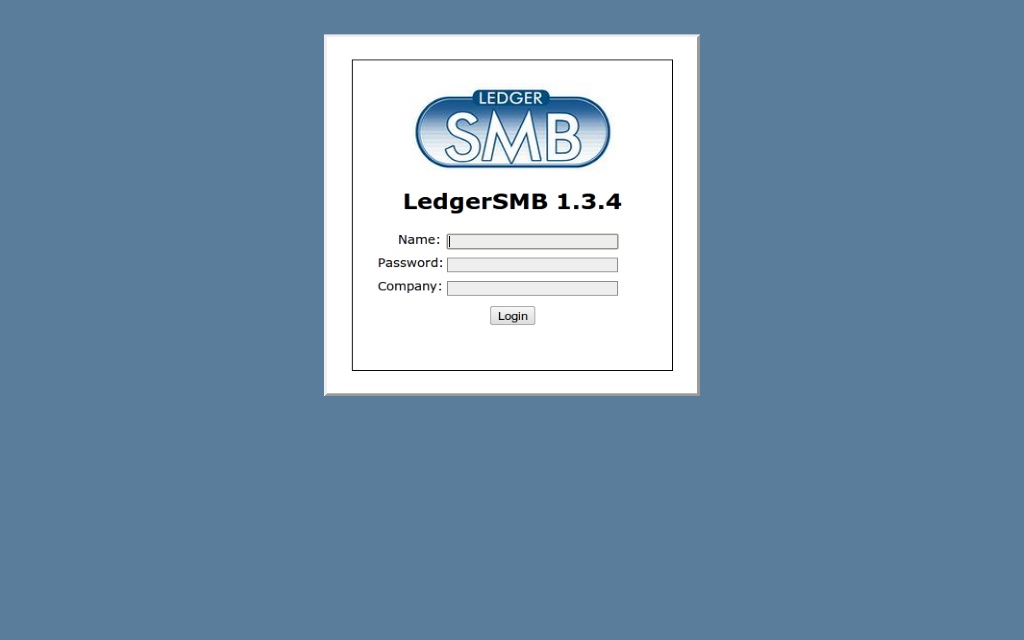button: (492, 308, 535, 325)
button_login: (490, 308, 537, 327)
label_Login: (498, 311, 528, 322)
label_password: (378, 254, 440, 273)
textbox: (447, 282, 618, 296), (447, 259, 617, 273), (446, 235, 619, 248)
